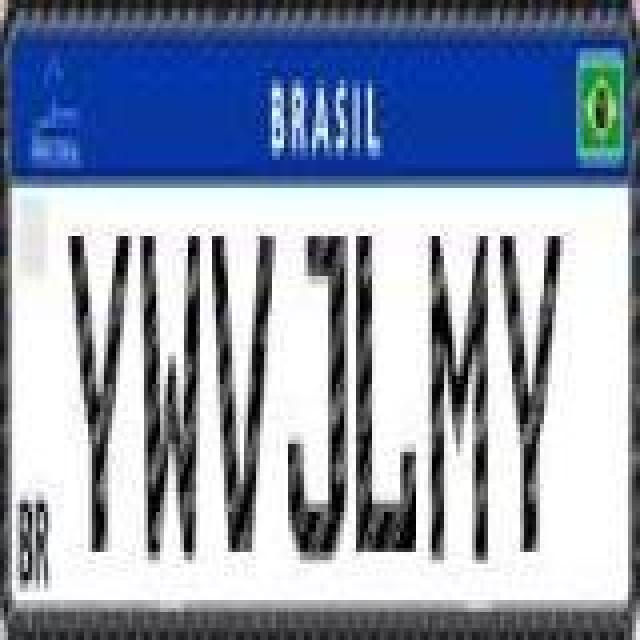J: (284, 232, 348, 568)
L: (352, 224, 416, 560)
M: (424, 232, 488, 568)
V: (210, 230, 278, 554)
W: (136, 232, 200, 568)
Y: (66, 230, 134, 554), (494, 230, 562, 554)
